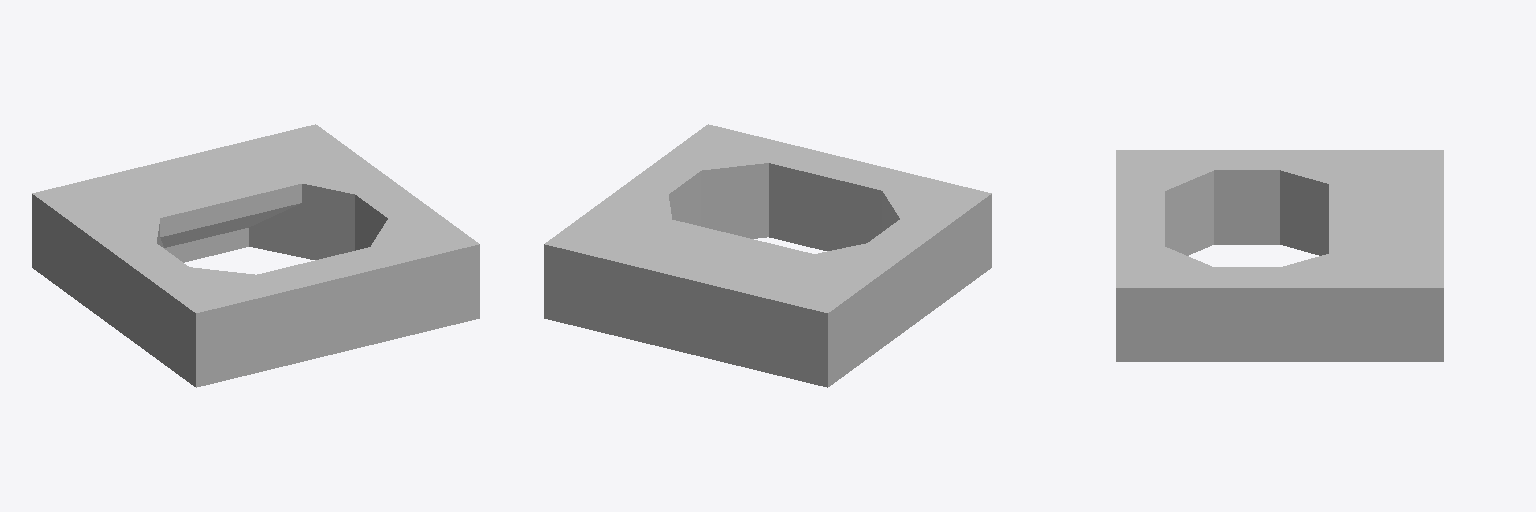
Rendered from STAIRS_DOWN.obj.
3 renders of one model, left to right at view 1: azimuth 30°, elevation 25°; view 2: azimuth 150°, elevation 25°; view 3: azimuth 270°, elevation 25°, orthographic.
Visible parts, largest first — view 1: STAIR_DOWN; view 2: STAIR_DOWN; view 3: STAIR_DOWN.
Boxes of the visible parts, x1,y1,x2,y2 form: STAIR_DOWN: [32, 124, 479, 387]; STAIR_DOWN: [544, 124, 991, 387]; STAIR_DOWN: [1116, 150, 1443, 361].
Bounding box in the file's own units: 2 × 0.5 × 2.